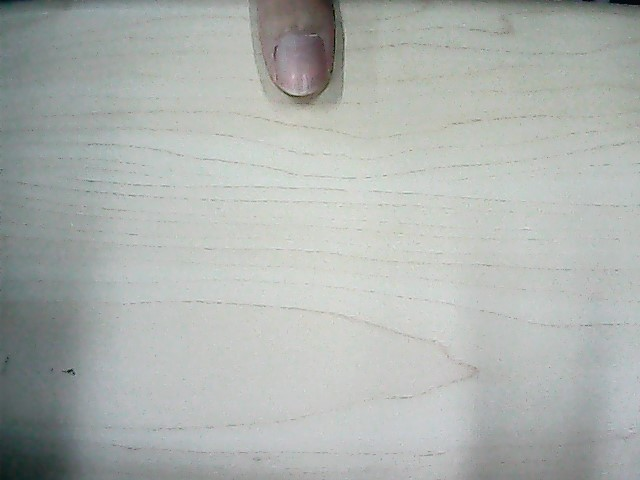nail: (278, 36, 326, 99)
